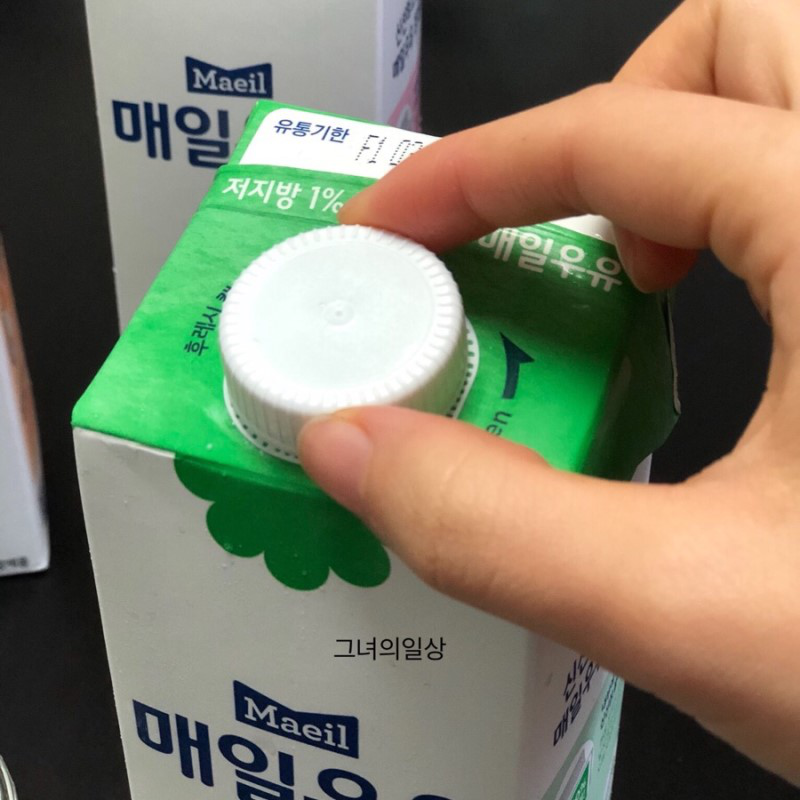milk: (72, 100, 683, 800), (80, 1, 421, 331)
